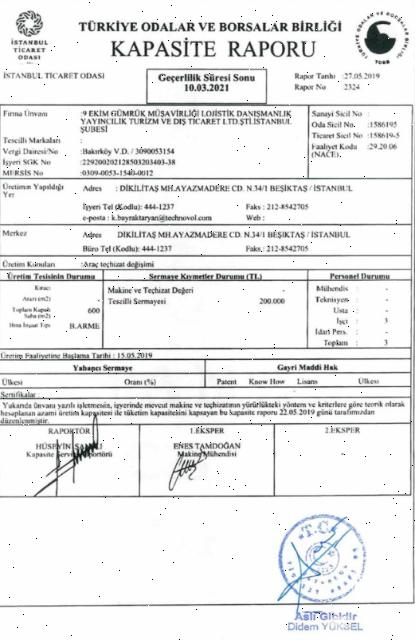stamp: (280, 514, 368, 606)
